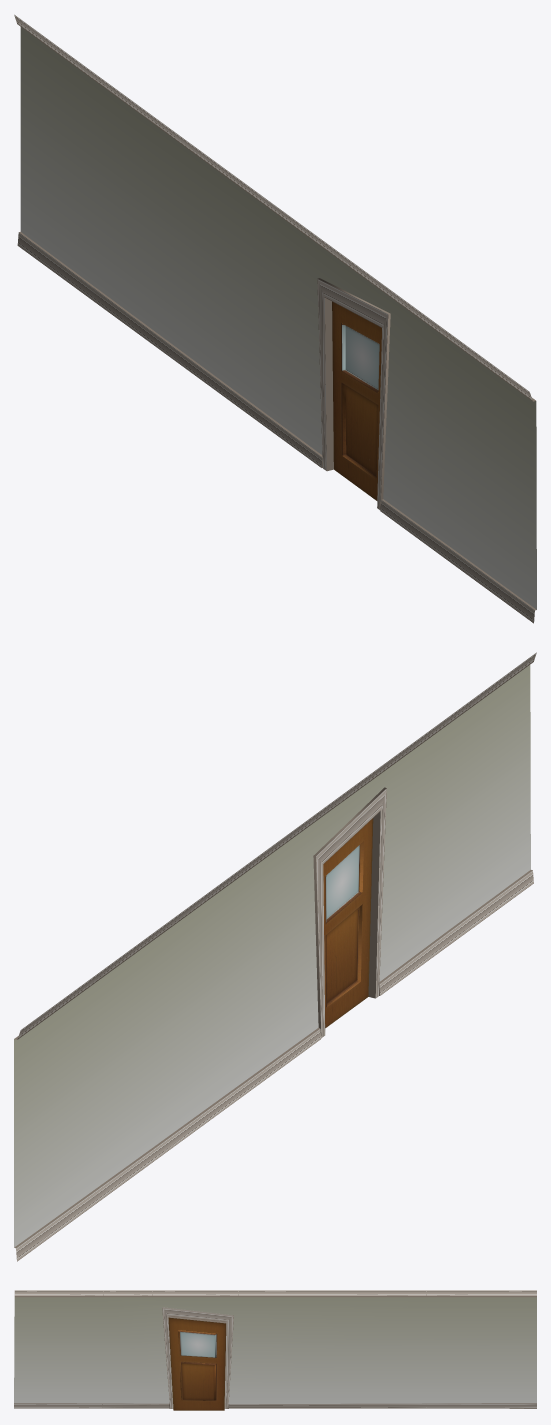
Rendered from SM_Office_Wall_L.fbx.
3 renders of one model, top to bottom at view 1: azimuth 30°, elevation 25°; view 2: azimuth 150°, elevation 25°; view 3: azimuth 270°, elevation 25°, orthographic. The views are drawn at different scales.
Visible parts, largest first — view 1: wall_L; view 2: wall_L; view 3: wall_L.
Part boxes in pixels (x1=…): wall_L: x1=14, y1=14, x2=536, y2=623; wall_L: x1=14, y1=652, x2=536, y2=1261; wall_L: x1=14, y1=1290, x2=536, y2=1410.
Size of the model in its own units: 18.21 by 295 by 1188.
3 materials, 3 textured.
